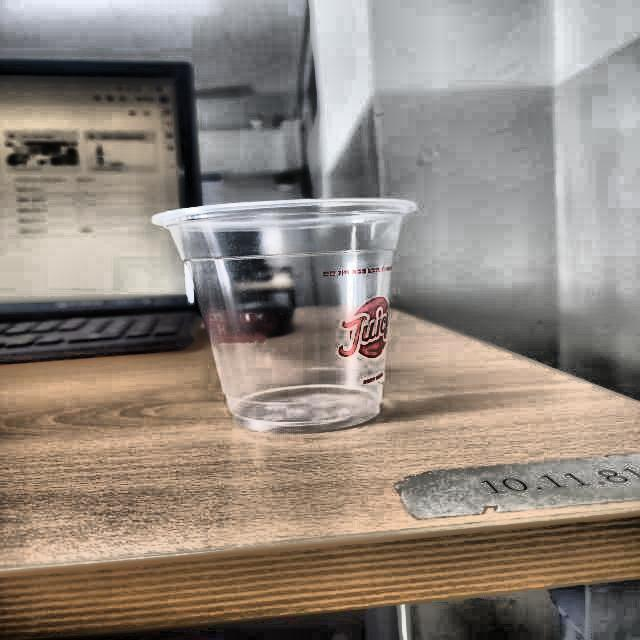plastic cup: (147, 196, 418, 435)
